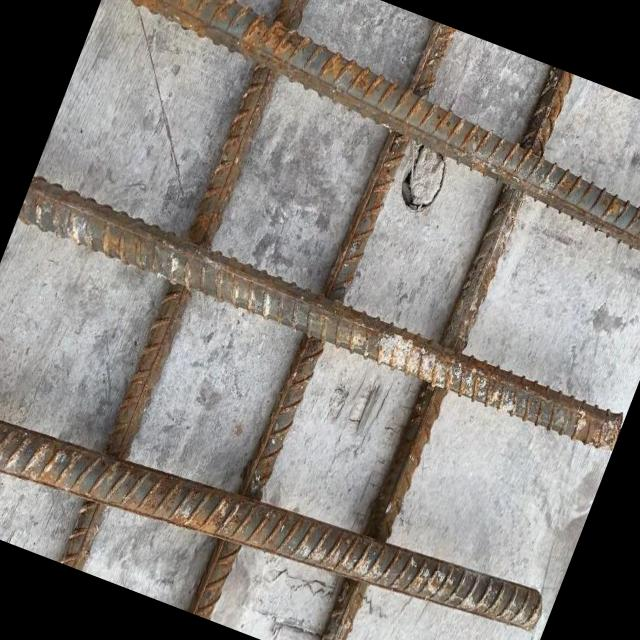ribbed bar: (14, 171, 632, 455), (185, 14, 457, 626), (308, 60, 574, 640), (0, 364, 553, 640), (84, 0, 640, 272), (56, 0, 318, 573)
